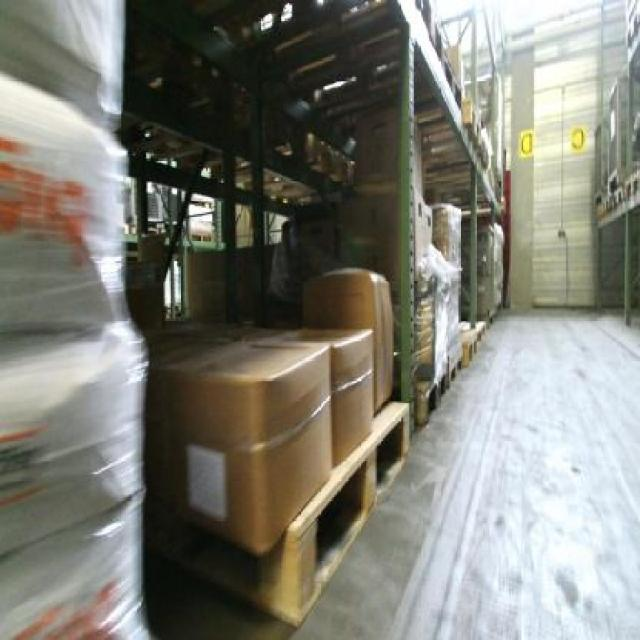pallet: (274, 389, 418, 638), (412, 358, 452, 443)
